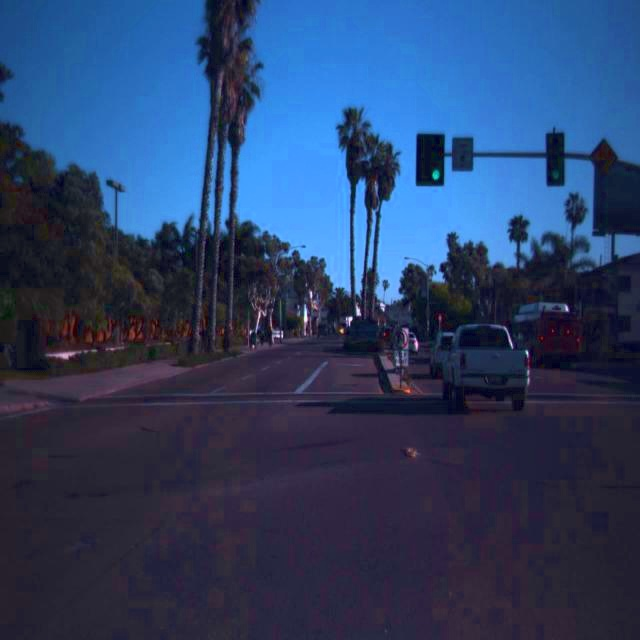go: (426, 140, 444, 183), (547, 150, 563, 180)
go traffic light: (426, 140, 444, 183), (547, 150, 563, 180)
